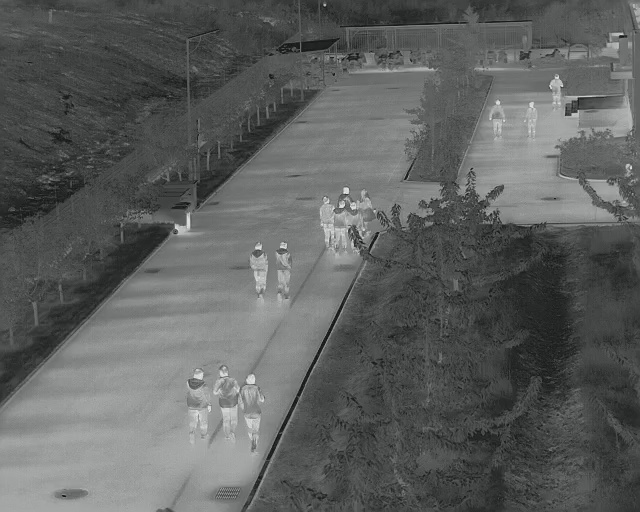person: (184, 365, 214, 445), (237, 371, 265, 453), (213, 363, 241, 443), (274, 240, 294, 302), (249, 241, 268, 302), (487, 98, 507, 141), (319, 194, 334, 251), (333, 201, 347, 257), (357, 186, 375, 223), (522, 100, 537, 141), (548, 72, 564, 110)
